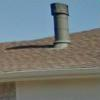Chimney: (47, 2, 82, 55)
